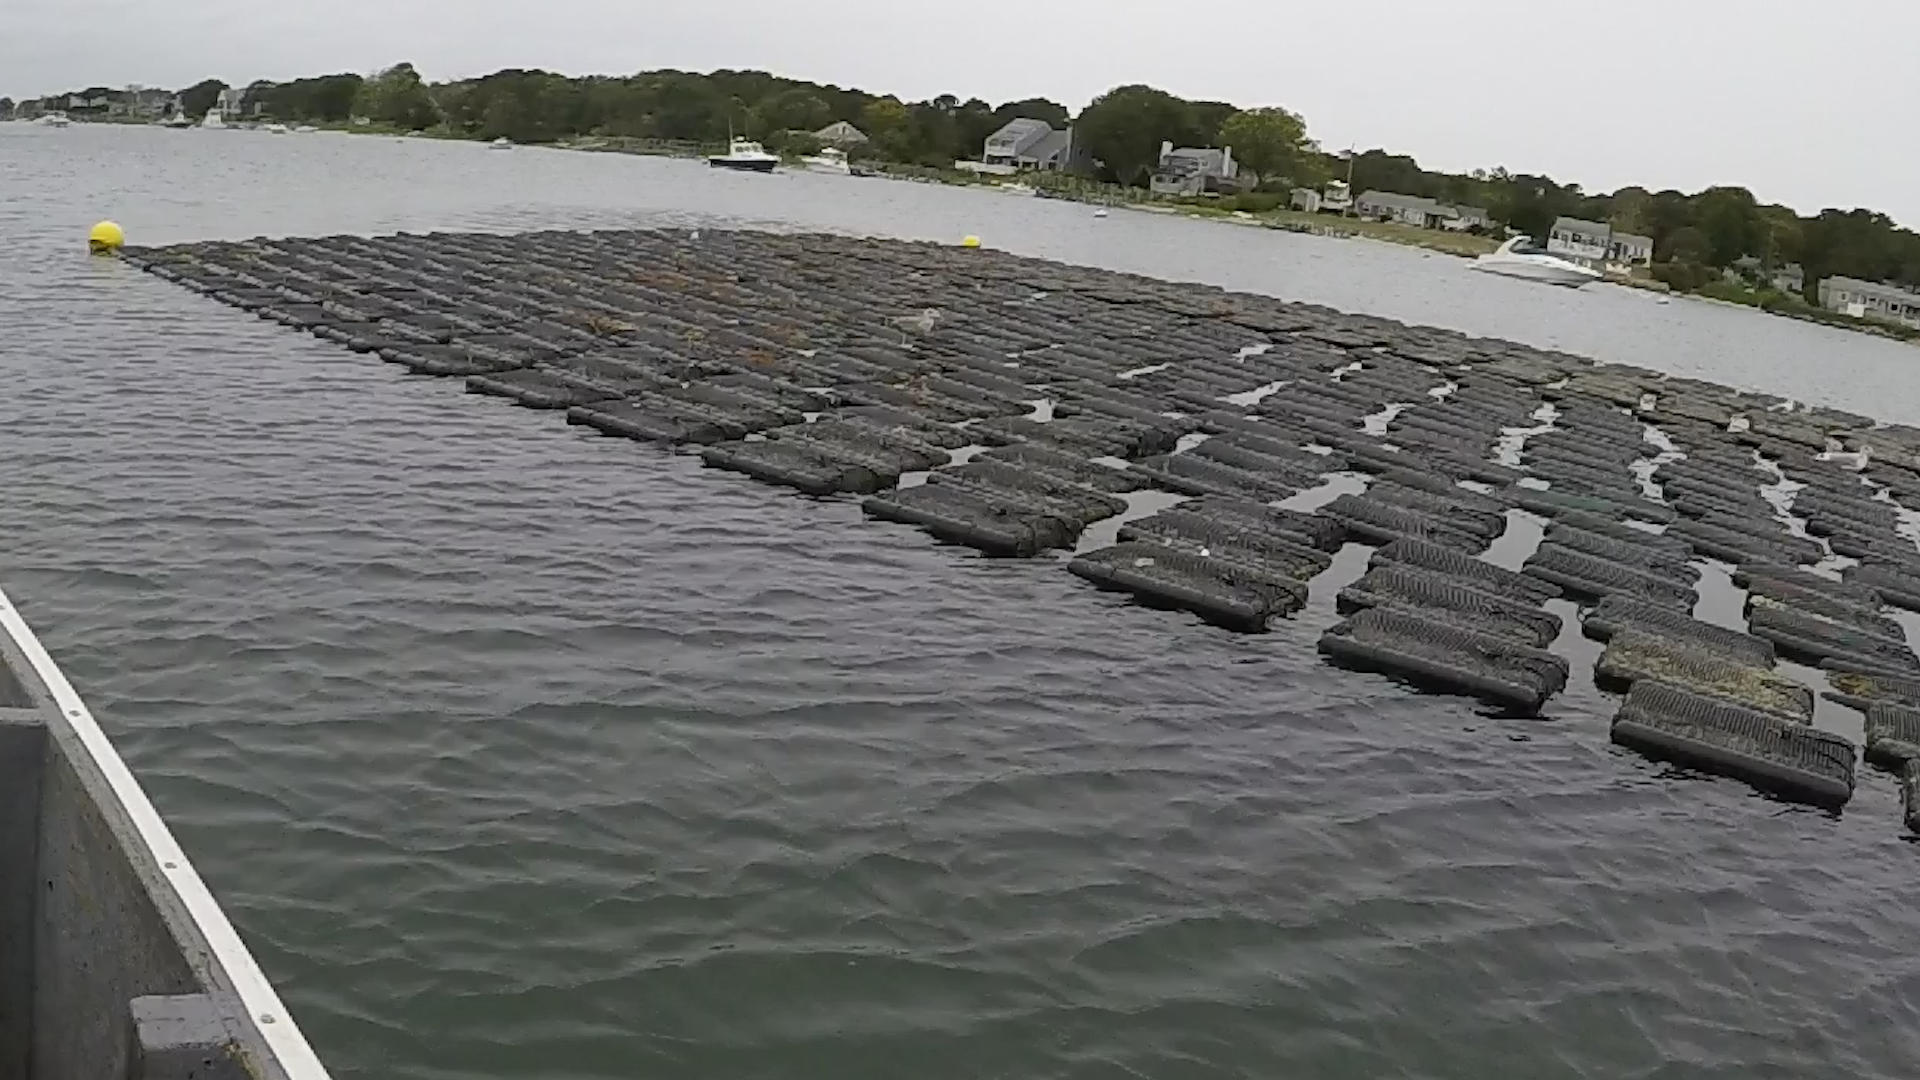bag: (1606, 678, 1858, 818), (1305, 609, 1571, 713)
